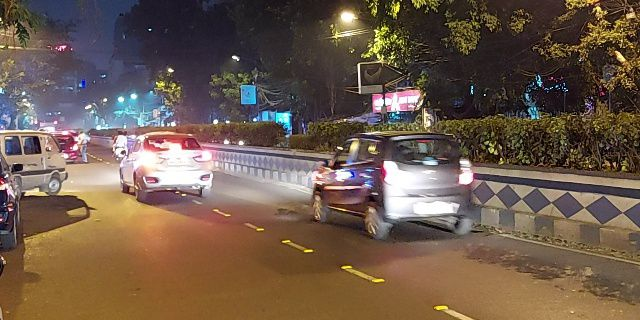Car: (316, 129, 481, 249), (121, 126, 219, 203)
